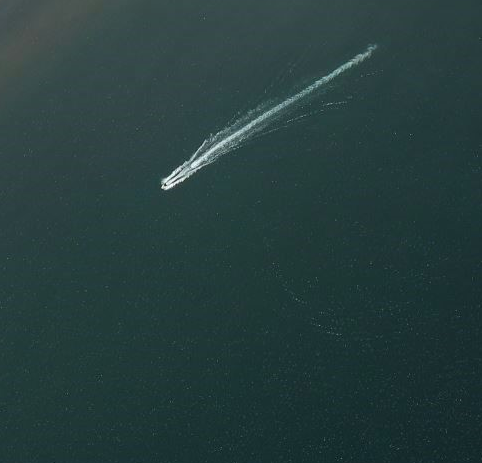ship: (162, 176, 170, 192)
